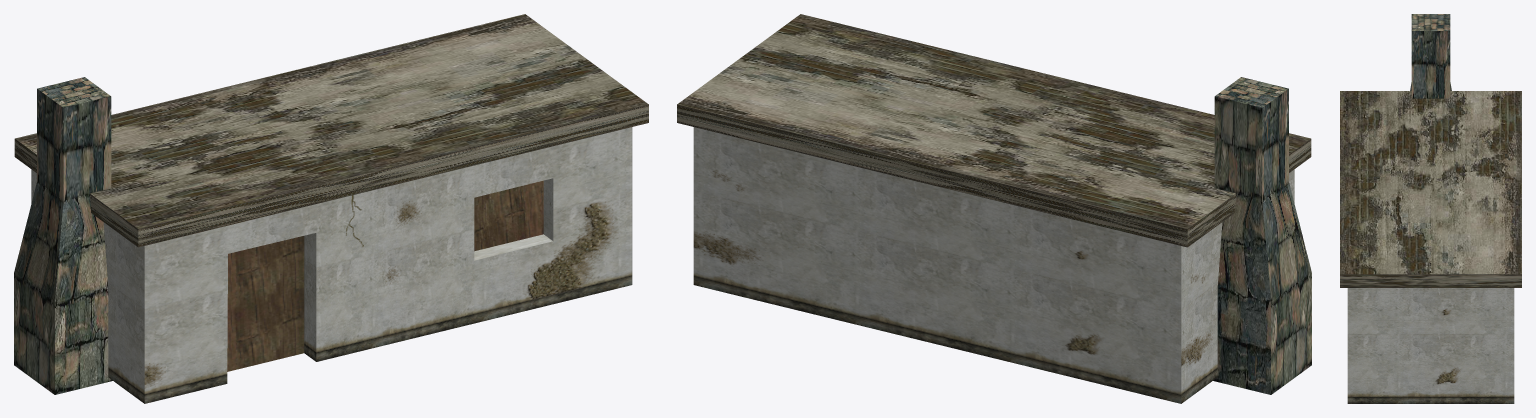
The model's file is DesertHouse.obj.
3 views of the same model, side by side, from view 1: azimuth 30°, elevation 25°; view 2: azimuth 150°, elevation 25°; view 3: azimuth 270°, elevation 25° (orthographic). The views are drawn at different scales.
Visible parts, largest first — view 1: pCube1, pCube2, pCube3; view 2: pCube1, pCube2, pCube3; view 3: pCube2, pCube1, pCube3.
Boxes of the visible parts, <box> form: pCube1: <box>31,127,632,403</box>; pCube2: <box>14,14,648,247</box>; pCube3: <box>14,77,112,394</box>; pCube1: <box>693,127,1294,403</box>; pCube2: <box>677,14,1311,247</box>; pCube3: <box>1213,77,1311,394</box>; pCube2: <box>1340,91,1521,287</box>; pCube1: <box>1347,288,1514,403</box>; pCube3: <box>1410,14,1451,98</box>.
Size of the model in its own units: 83.21 by 40.01 by 32.23.
